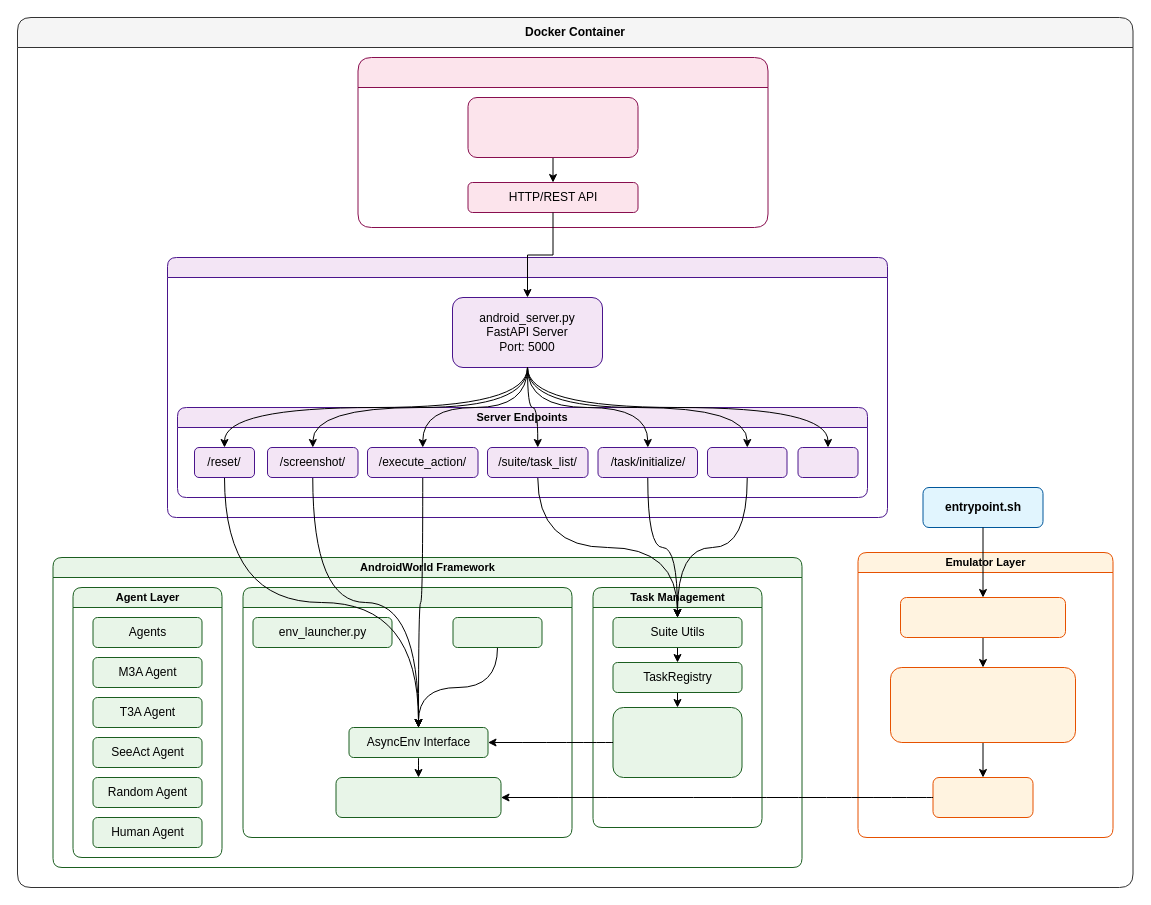
Some shapes in this 1151 by 905 pixel diagram are drawn without their labels. Here are the shapes that lost their labels. From the top down, the box of each, then its label:
(467, 96, 638, 158): Client Application run_suite_on_docker.py
(357, 56, 768, 228): External Client
(166, 256, 888, 518): Server Layer
(706, 446, 787, 478): /task/score/
(797, 446, 858, 478): /health/
(452, 616, 542, 648): JSON Action
(900, 596, 1066, 638): start_emu_headless.sh
(242, 586, 572, 838): Environment Layer
(890, 666, 1076, 742): Android Emulator Pixel 6 API 33 Port: 8554/5554
(612, 706, 742, 778): Task Evals 116 Tasks across 20 Apps
(335, 776, 501, 818): AndroidWorldController
(932, 776, 1033, 818): ADB Bridge
